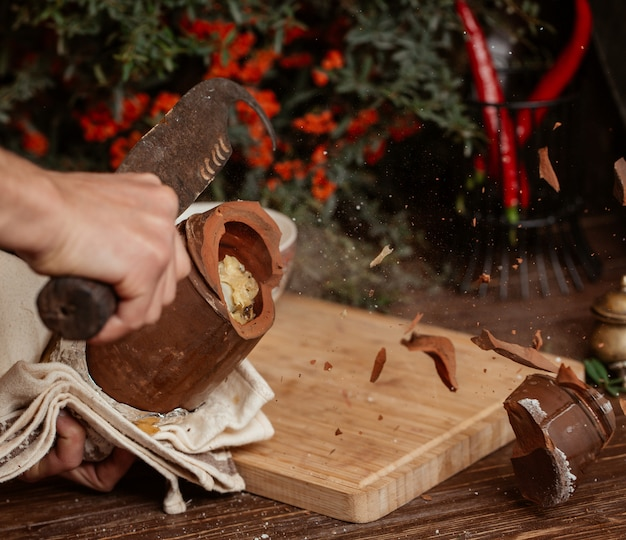knife: (112, 74, 279, 215)
